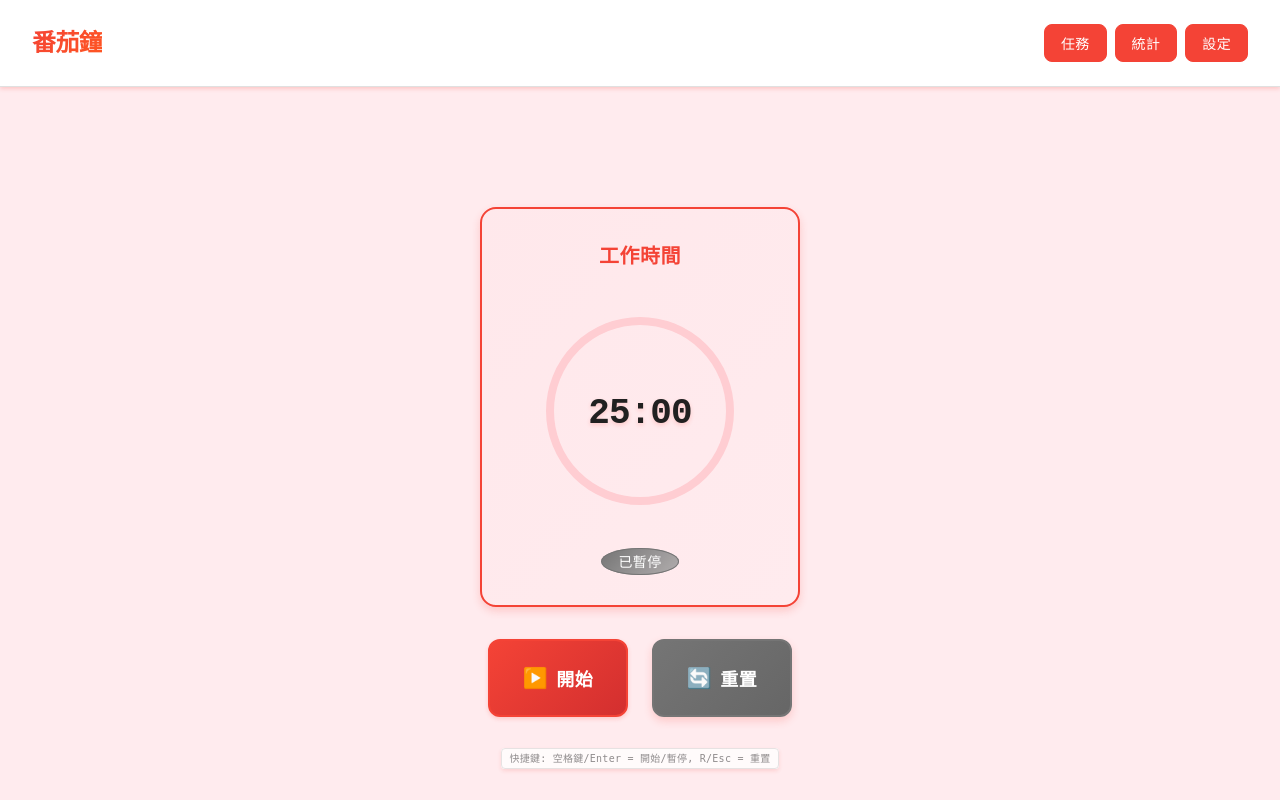
Scenario: Performance Tests › Component Optimization › should memoize expensive calculations
Check: the text "25:00" is shown, box 588,387 -> 692,441
Multiple renders with same props should not recalculate
Click the button with aria-label "開始計時器" at (558, 678), box 488,639 -> 628,717
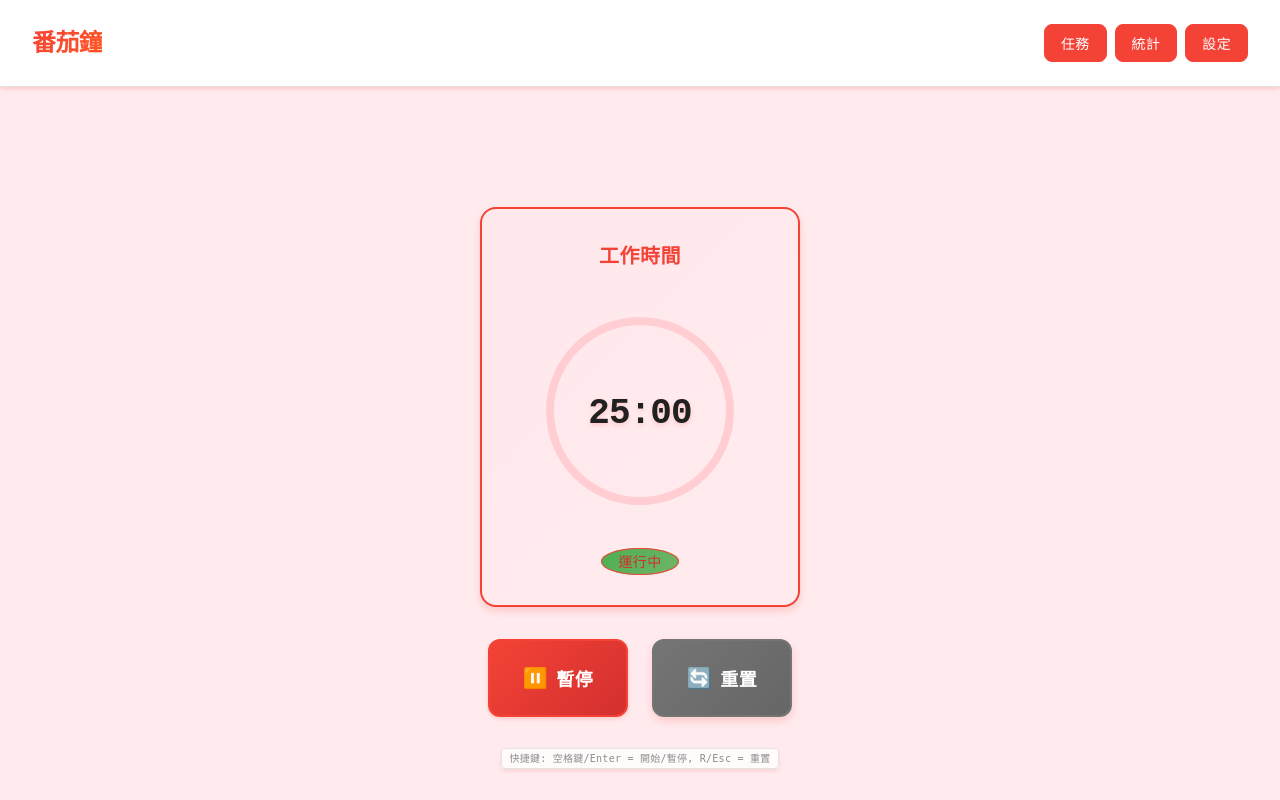
Check: the text "運行中" is shown, box 602,548 -> 679,575
